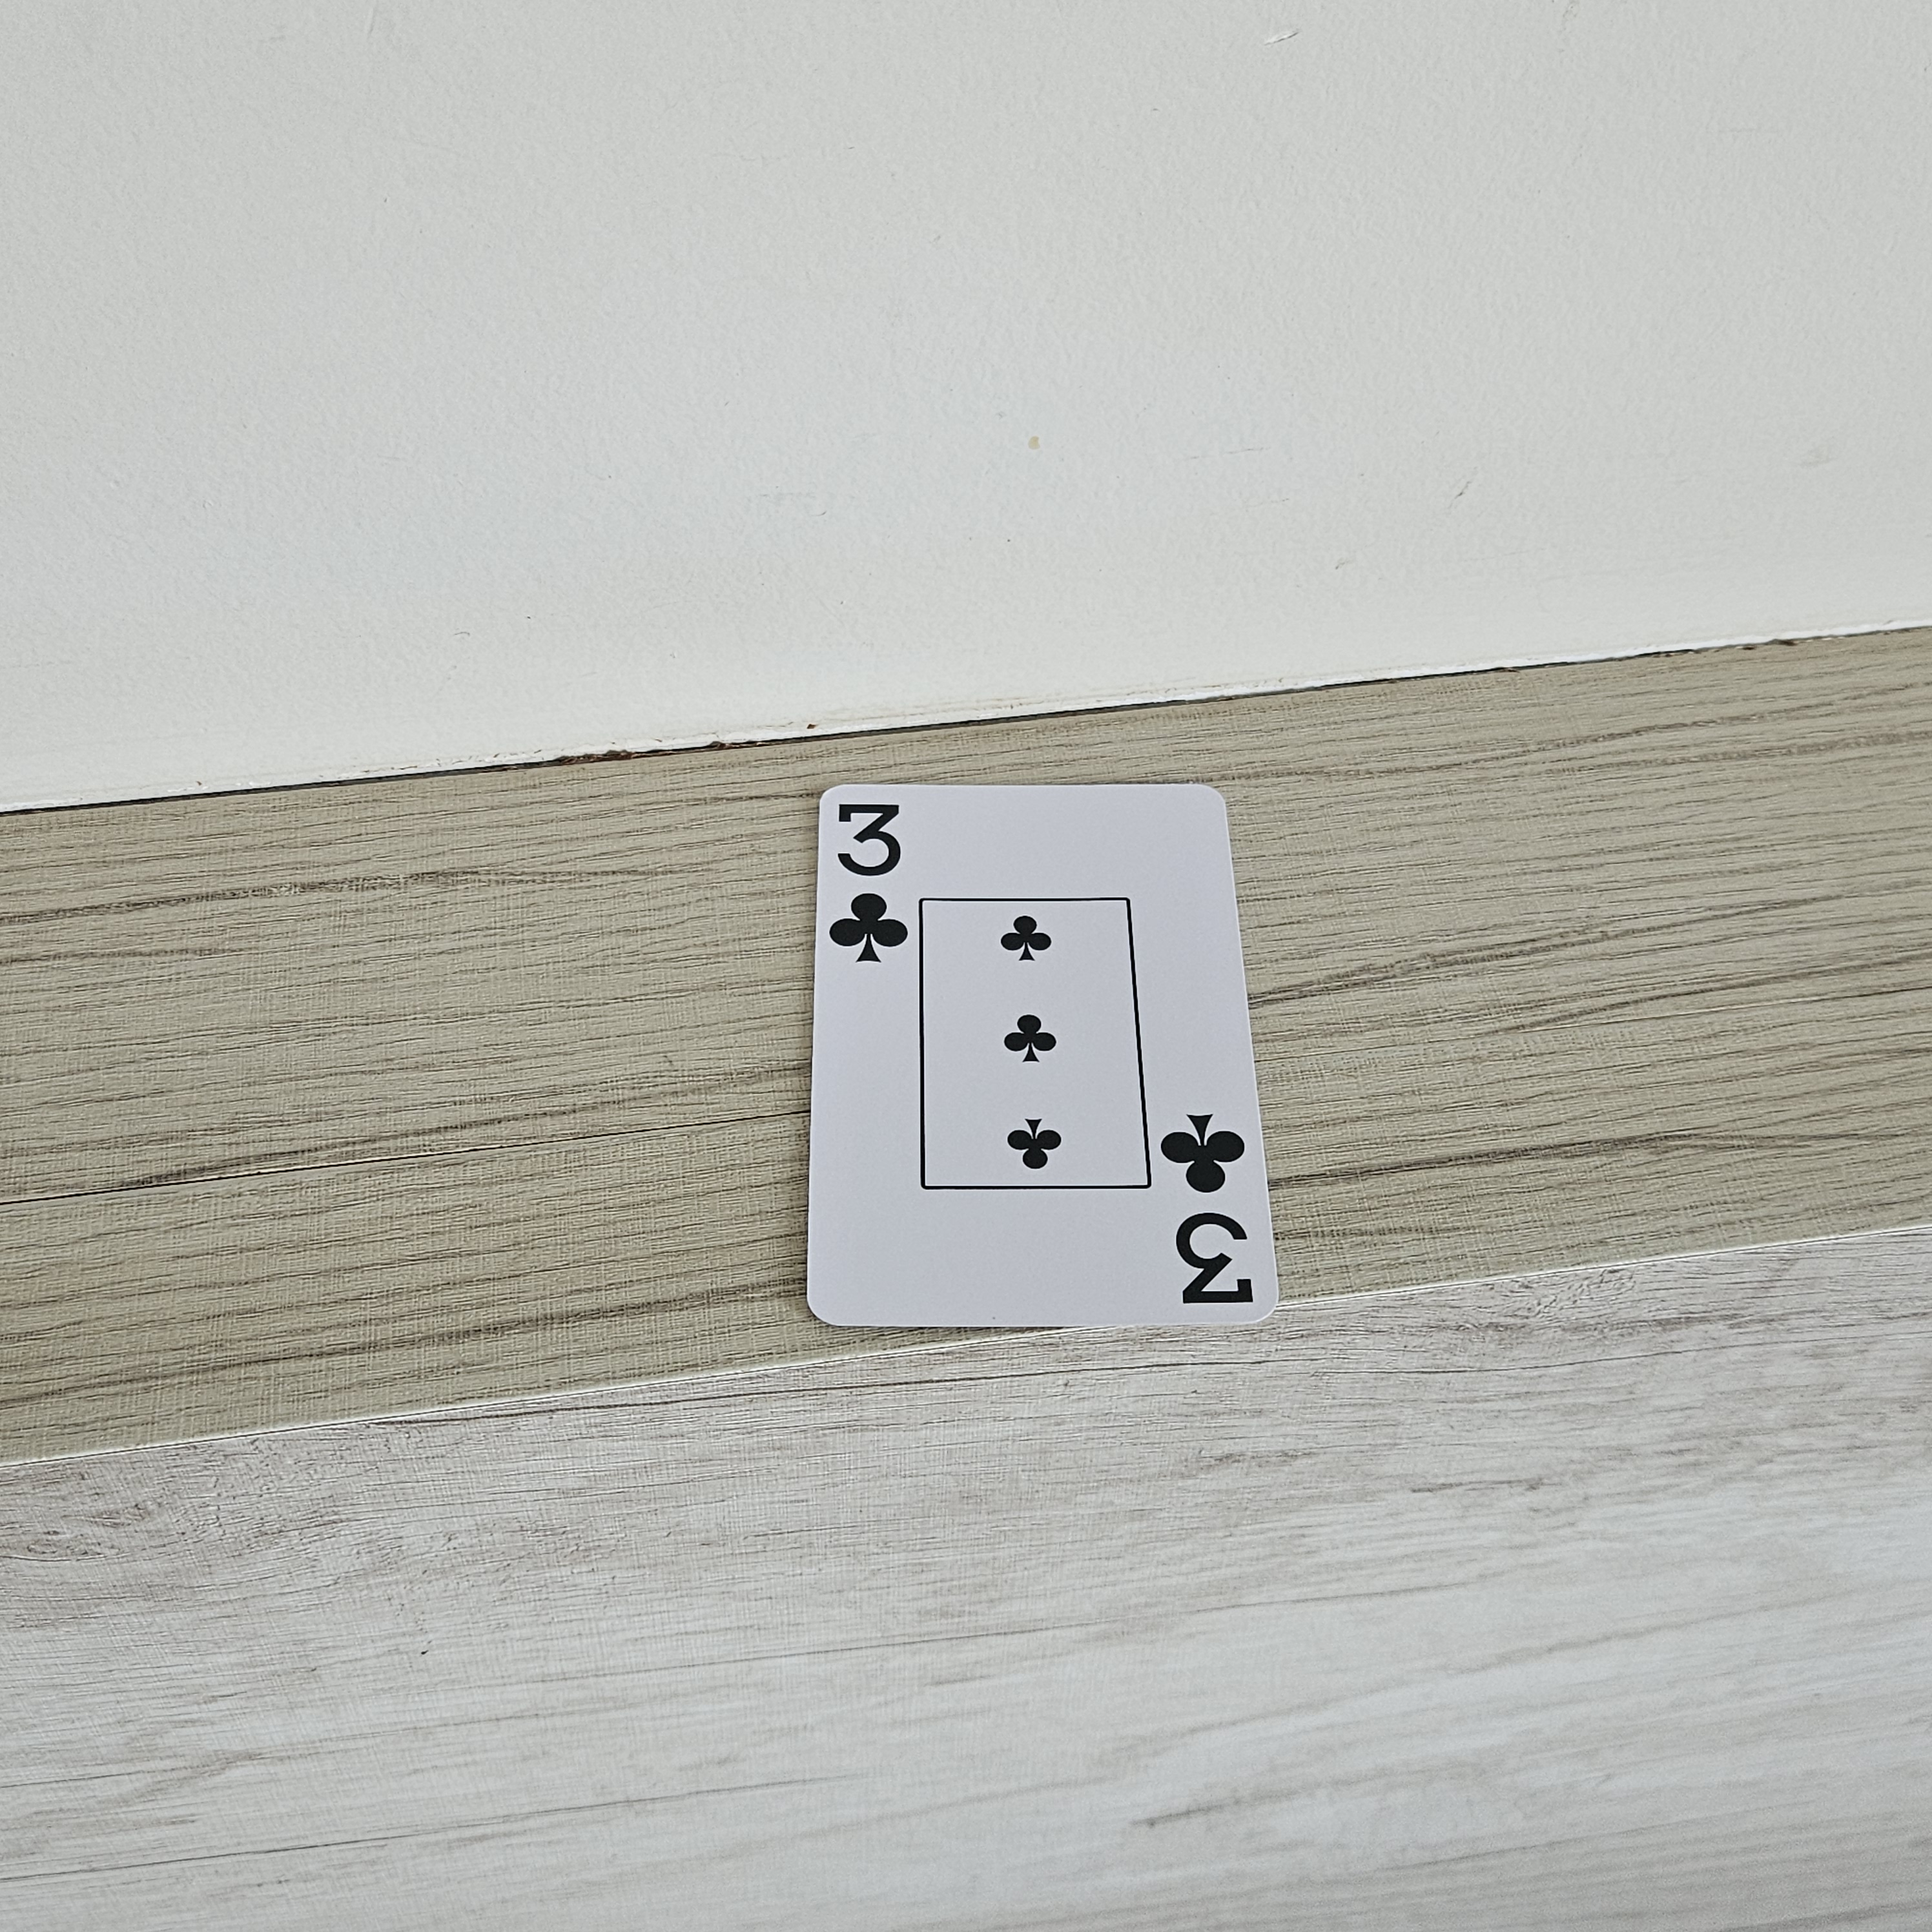3P: (1152, 1100, 1263, 1311), (824, 793, 913, 975)
